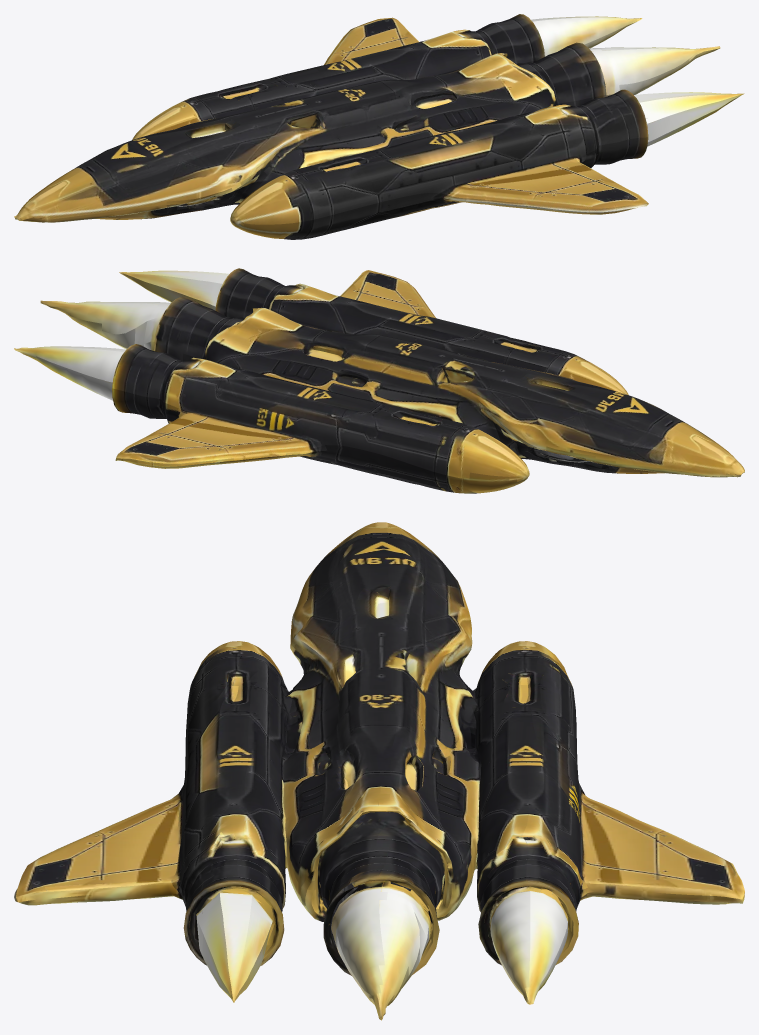
File: rocket.glb
The picture shows the model from 3 angles, top to bottom: view 1: azimuth 30°, elevation 25°; view 2: azimuth 150°, elevation 25°; view 3: azimuth 270°, elevation 25°; orthographic projection. The views are drawn at different scales.
Visible parts, largest first — view 1: Mesh0; view 2: Mesh0; view 3: Mesh0.
Boxes of the visible parts, x1,y1,x2,y2 form: Mesh0: (14,14,744,239); Mesh0: (14,268,744,493); Mesh0: (14,522,744,1020).
Bounding box in the file's own units: 2 × 0.2295 × 1.26.
Materials: 1 (1 with a texture image).
